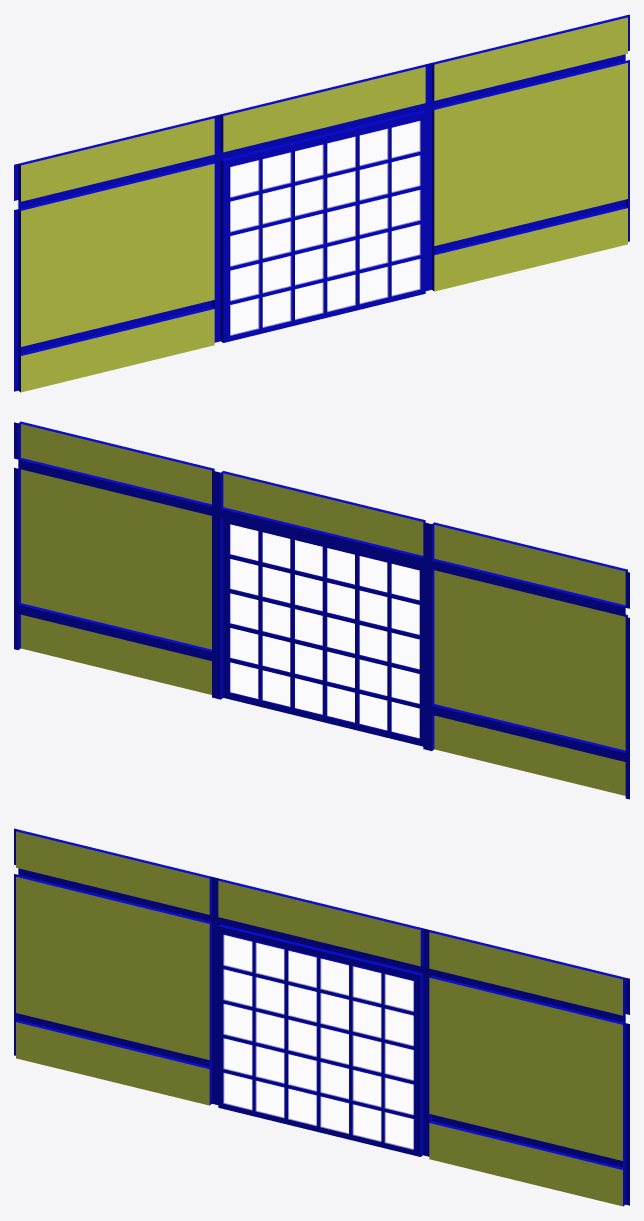
Rendered from MSH_A_Wall_South.glb.
The picture shows the model from 3 angles, top to bottom: view 1: azimuth 30°, elevation 25°; view 2: azimuth 150°, elevation 25°; view 3: azimuth 330°, elevation 25°; orthographic projection.
Parts seen in each view (by area): view 1: Wall Room A-South; view 2: Wall Room A-South; view 3: Wall Room A-South.
Part boxes in pixels (x1,y1,x2,y2): Wall Room A-South: (14, 14, 629, 392); Wall Room A-South: (14, 421, 629, 799); Wall Room A-South: (14, 828, 629, 1206).
Size of the model in its own units: 7.1 by 2.5 by 0.07.
